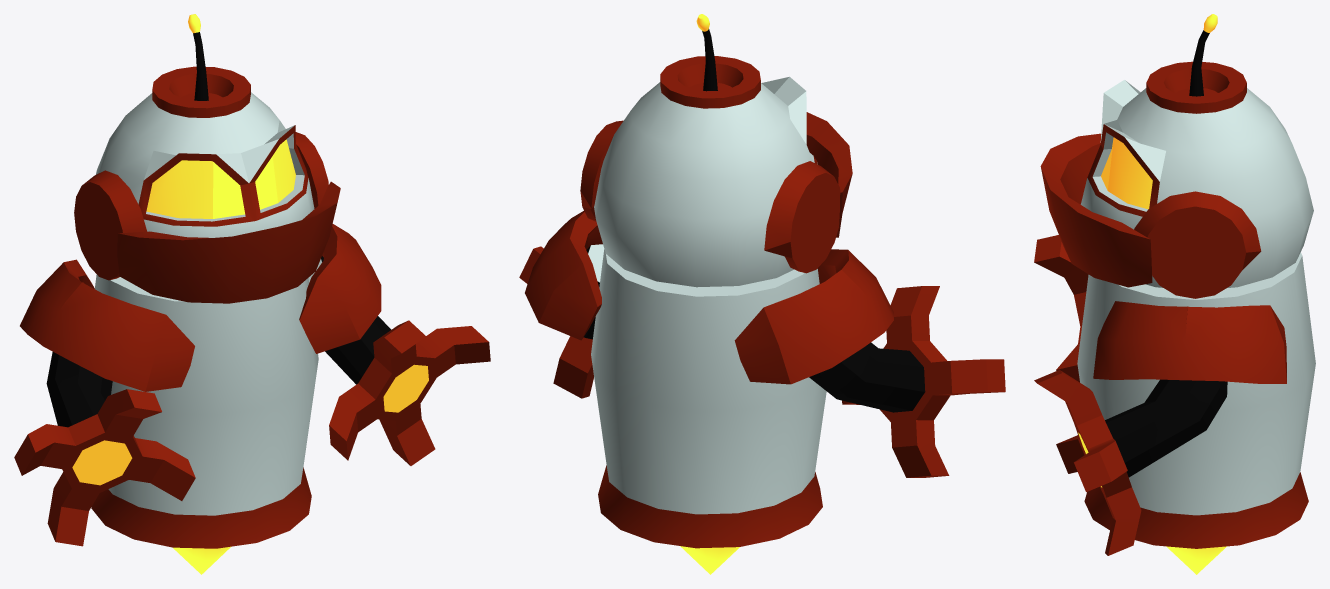
Rendered from robot.fbx.
3 views of the same model, side by side, from view 1: azimuth 30°, elevation 25°; view 2: azimuth 150°, elevation 25°; view 3: azimuth 270°, elevation 25° (orthographic). The views are drawn at different scales.
Visible parts, largest first — view 1: robot; view 2: robot; view 3: robot.
Part boxes in pixels (bbox=[...]): robot: bbox=[14, 14, 490, 574]; robot: bbox=[519, 14, 1005, 574]; robot: bbox=[1034, 14, 1315, 574].
Size of the model in its own units: 458 by 518 by 236.
